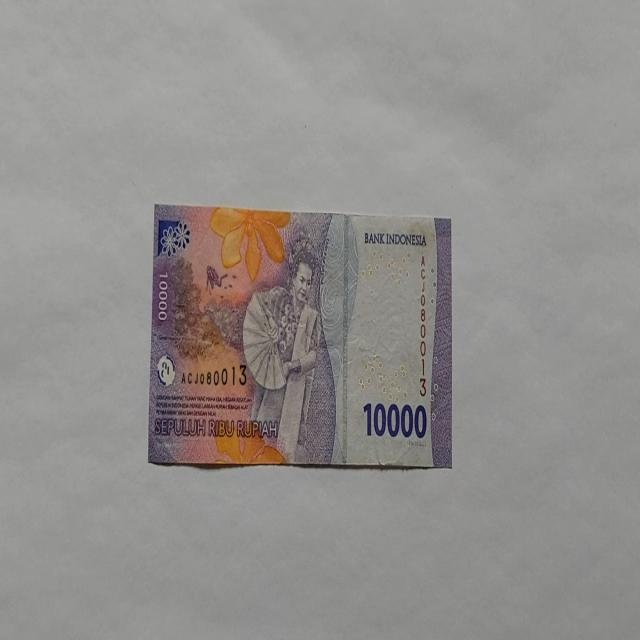sepuluh ribu rupiah: (147, 202, 453, 470)
